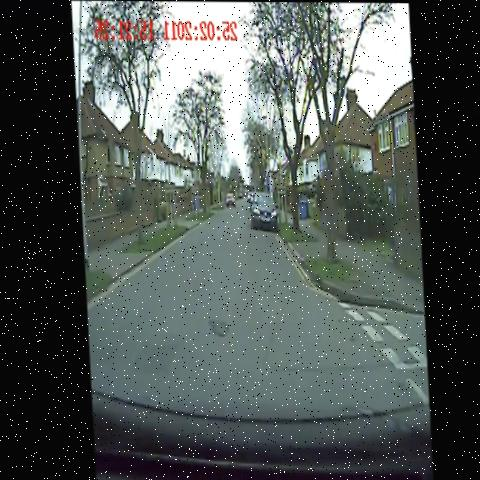pothole: (200, 315, 233, 341)
